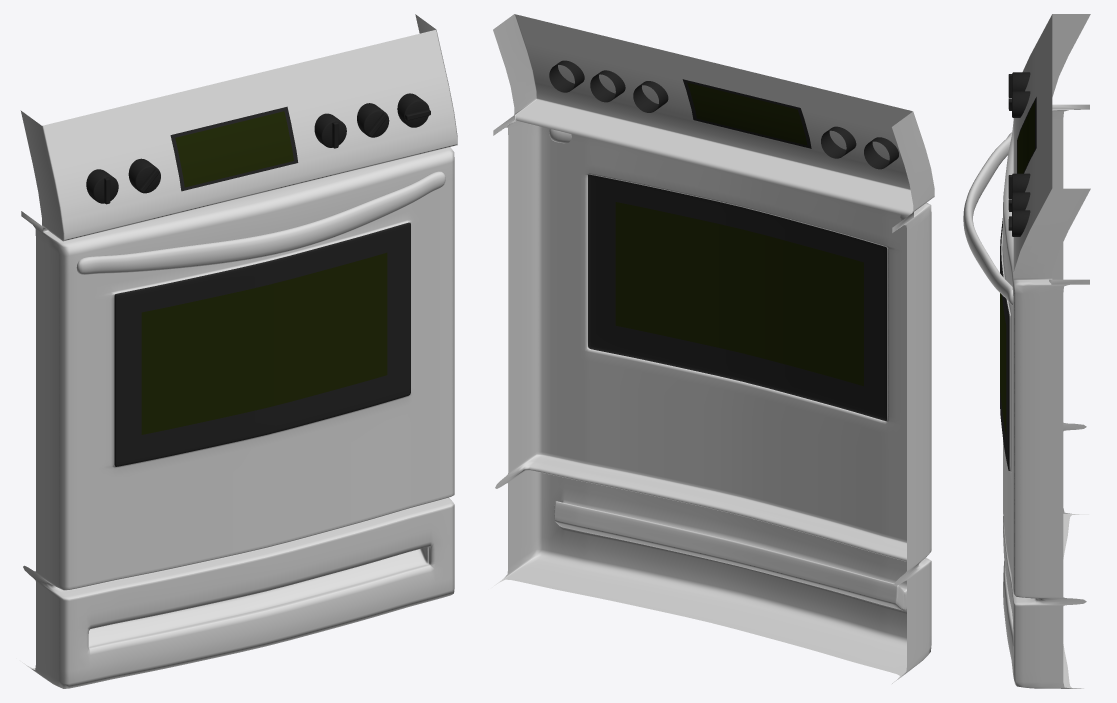
Rendered from dishWasher.glb.
The picture shows the model from 3 angles, left to right: view 1: azimuth 30°, elevation 25°; view 2: azimuth 150°, elevation 25°; view 3: azimuth 270°, elevation 25°; orthographic projection. The views are drawn at different scales.
Parts seen in each view (by area): view 1: Cube.083, Cube.085, Cube.087; view 2: Cube.083, Cube.085, Cube.087; view 3: Cube.083, Cube.085, Cube.087.
Part boxes in pixels (x1,y1,x2,y2): Cube.083: (22,147,454,688); Cube.085: (20,14,457,241); Cube.087: (86,93,430,204); Cube.083: (492,120,931,683); Cube.085: (493,14,934,232); Cube.087: (549,60,898,169); Cube.083: (963,109,1088,688); Cube.085: (1013,14,1090,284); Cube.087: (1008,72,1030,236).
Bounding box in the file's own units: 0.787 × 1.05 × 0.2653.
